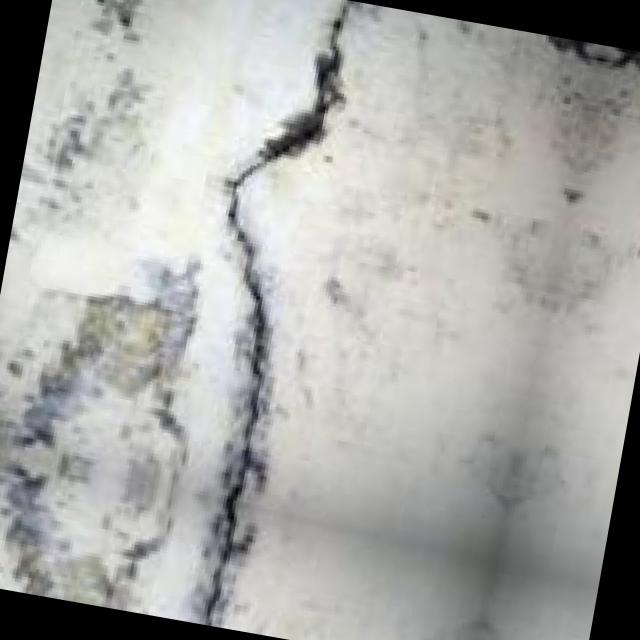crack: (117, 0, 413, 639)
